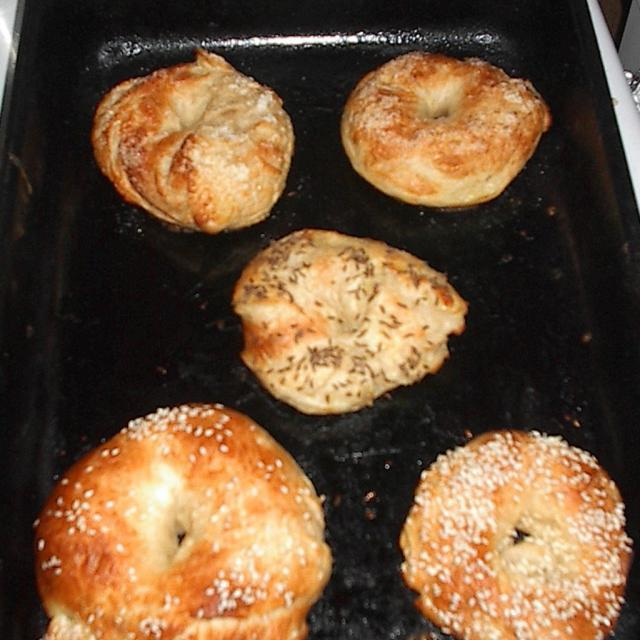Bagel: (31, 398, 330, 640), (397, 430, 631, 640), (230, 225, 464, 420), (95, 48, 298, 224), (341, 49, 554, 201)
